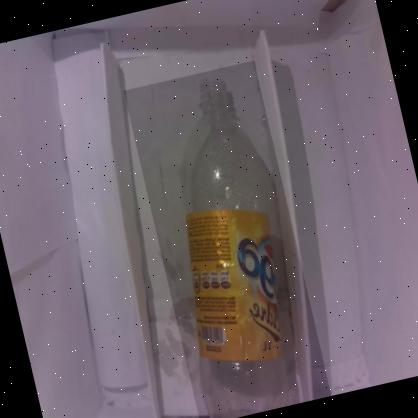bottle: (123, 60, 331, 418)
label: (168, 204, 306, 366)
